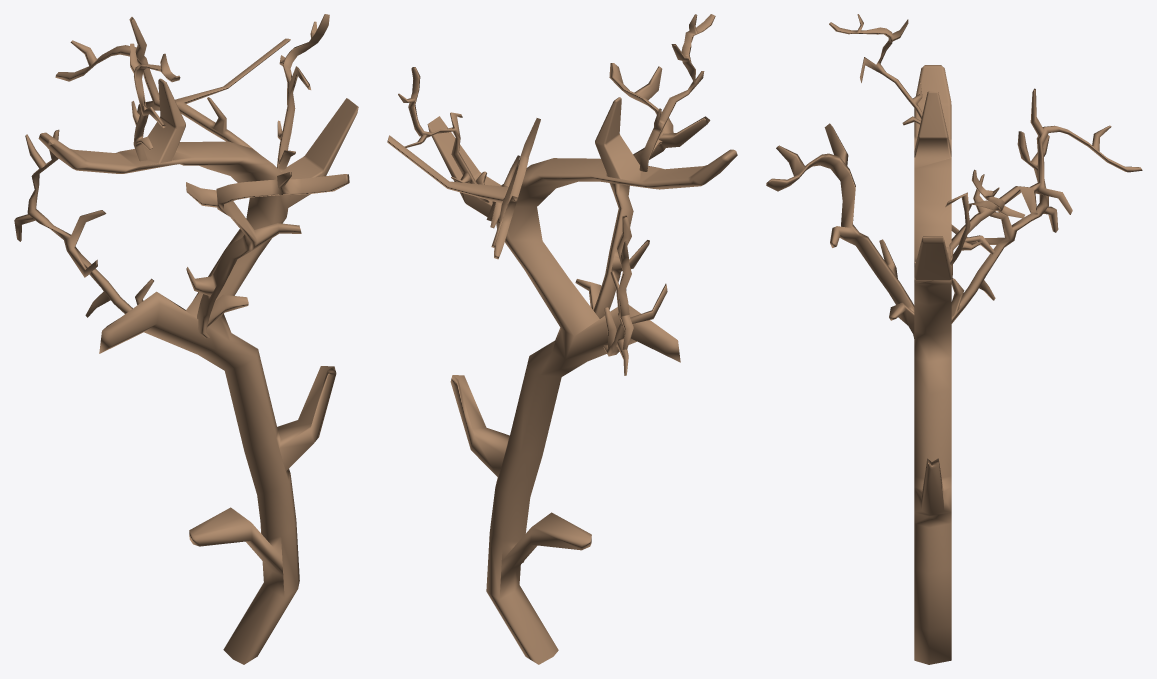
File: Tree_Trunk.fbx
3 renders of one model, left to right at view 1: azimuth 30°, elevation 25°; view 2: azimuth 150°, elevation 25°; view 3: azimuth 270°, elevation 25°, orthographic. The views are drawn at different scales.
Visible parts, largest first — view 1: Trunk; view 2: Trunk; view 3: Trunk.
Boxes of the visible parts, x1,y1,x2,y2 form: Trunk: (14, 14, 358, 664); Trunk: (387, 14, 737, 664); Trunk: (766, 14, 1142, 664).
Bounding box in the file's own units: 178 × 363 × 208.
